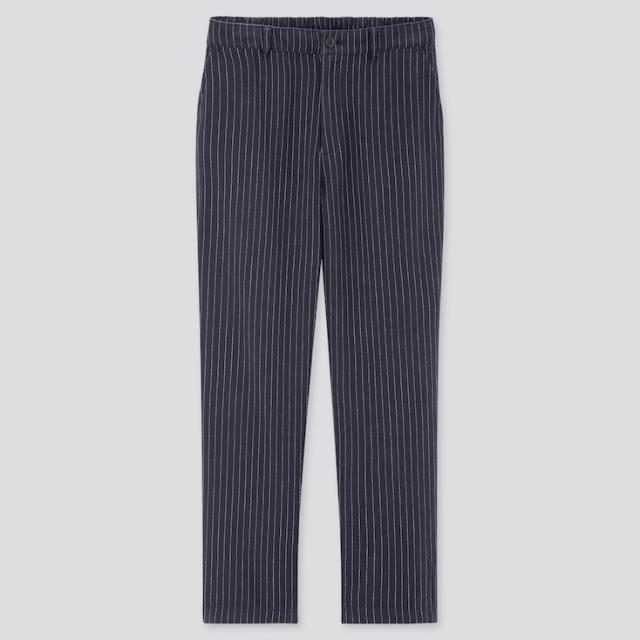long-pants: (195, 17, 446, 629)
